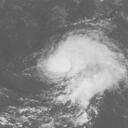cyclone: (41, 29, 121, 96)
